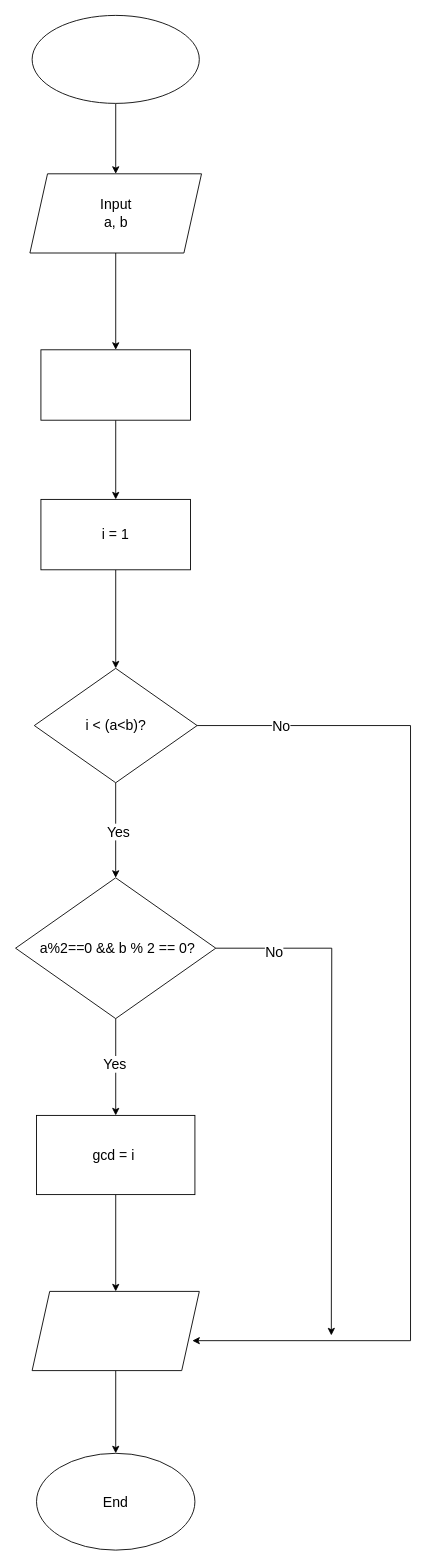
This 433x1566 diagram has some shape labels left out. The centre of each missing label's shape, as x and y in pixels:
"gcd = 0" goes at point 115,384.
"Print gcd" goes at point 115,1331.
"Start" goes at point 115,59.
